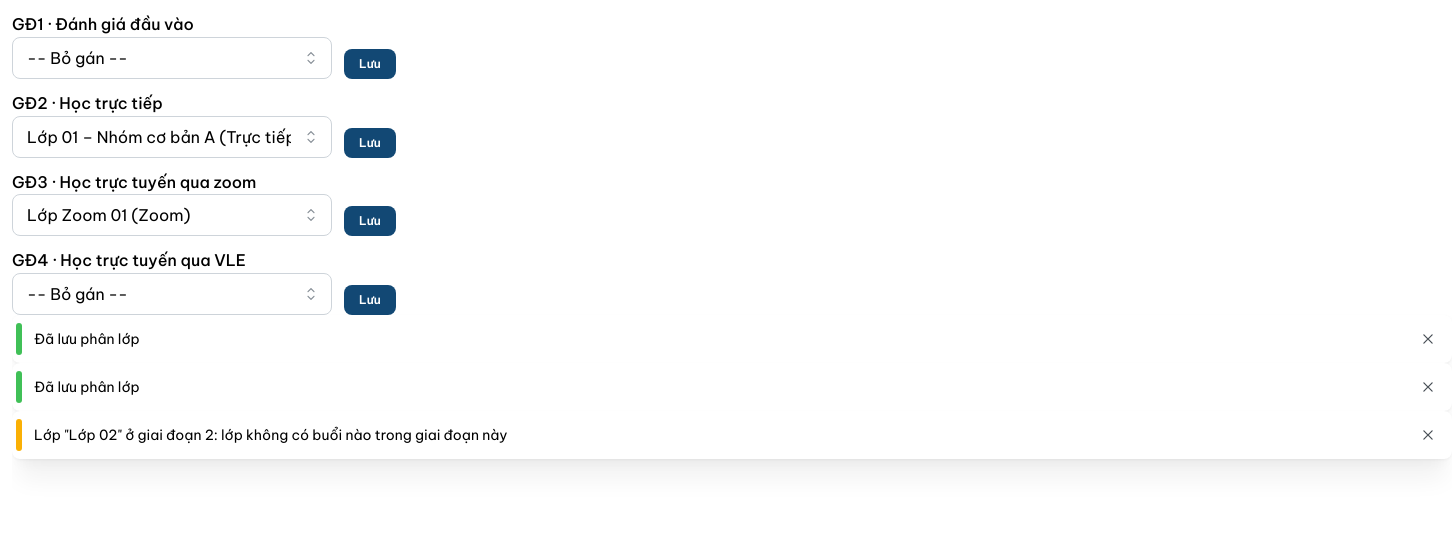
Scenario: PhanLopTheoGiaiDoan › lỗi API -> notification lỗi
Click the button "Lưu" below "GĐ1 · Đánh giá đầu vào" at x=370, y=64, box [344,49,396,79]
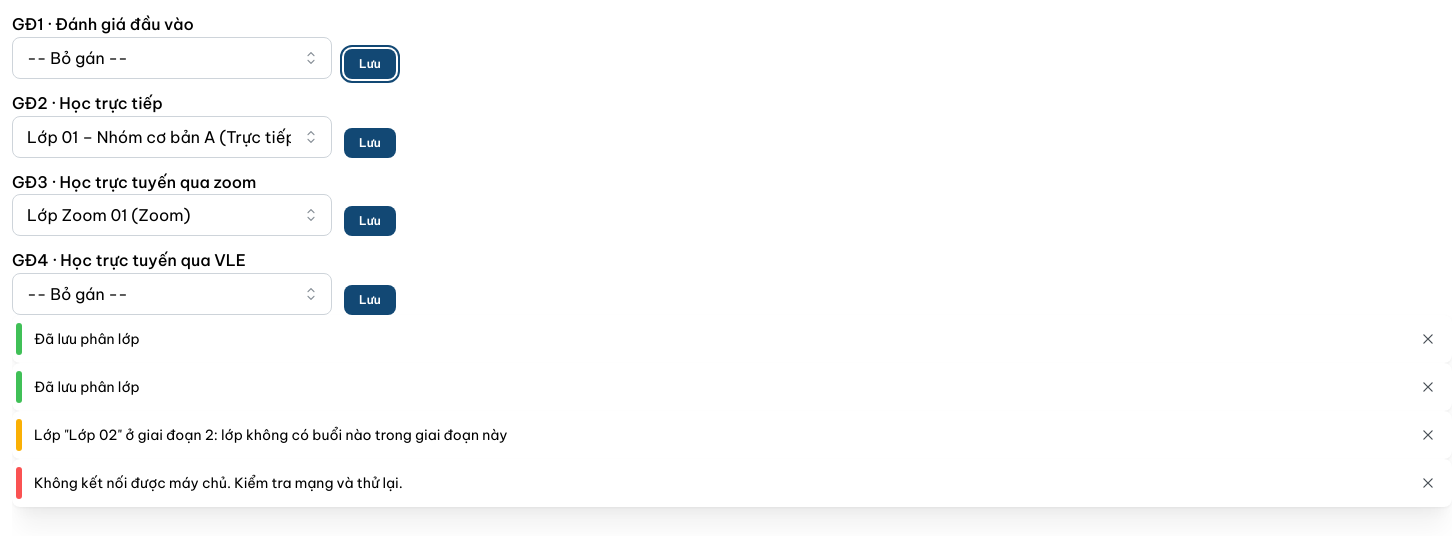
Now the text "Không kết nối được máy chủ. Kiểm tra mạng và thử lại." is shown, box [34,474,403,492]
